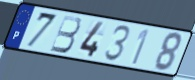1: (130, 28, 151, 67)
3: (103, 24, 131, 62)
4: (77, 20, 105, 59)
7: (25, 10, 59, 48)
8: (153, 31, 184, 73)
B: (48, 14, 82, 55)
